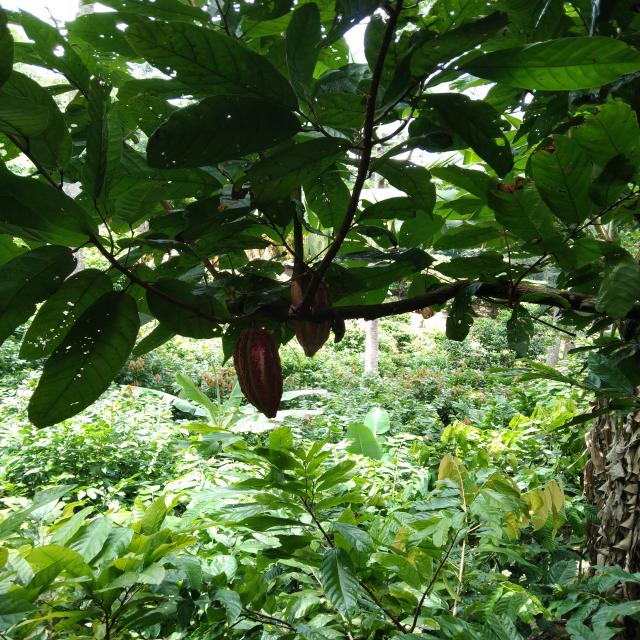Sana: (230, 326, 281, 419), (294, 270, 336, 356)
